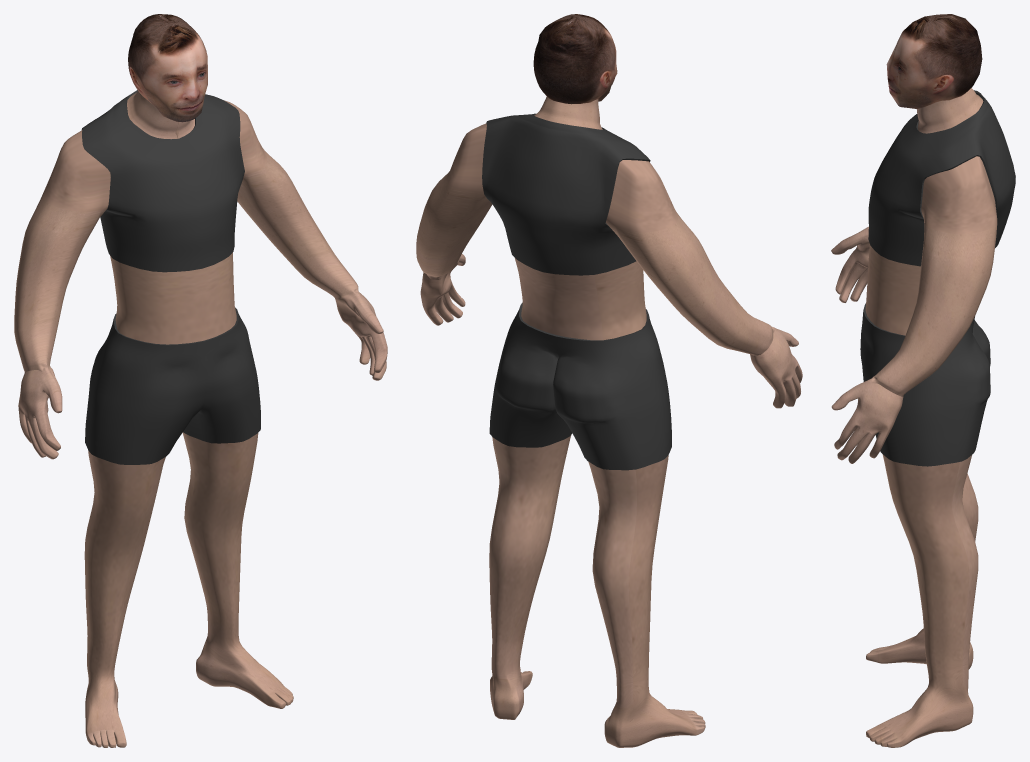
The model's file is npc2.fbx.
The picture shows the model from 3 angles, left to right: view 1: azimuth 30°, elevation 25°; view 2: azimuth 150°, elevation 25°; view 3: azimuth 270°, elevation 25°; orthographic projection. The views are drawn at different scales.
Visible parts, largest first — view 1: pasted__pasted__group4; view 2: pasted__pasted__group4; view 3: pasted__pasted__group4.
Part boxes in pixels (x1,y1,x2,y2): pasted__pasted__group4: (14, 14, 387, 747); pasted__pasted__group4: (416, 14, 802, 747); pasted__pasted__group4: (831, 14, 1015, 747).
Size of the model in its own units: 6.06 by 11.3 by 2.77.
